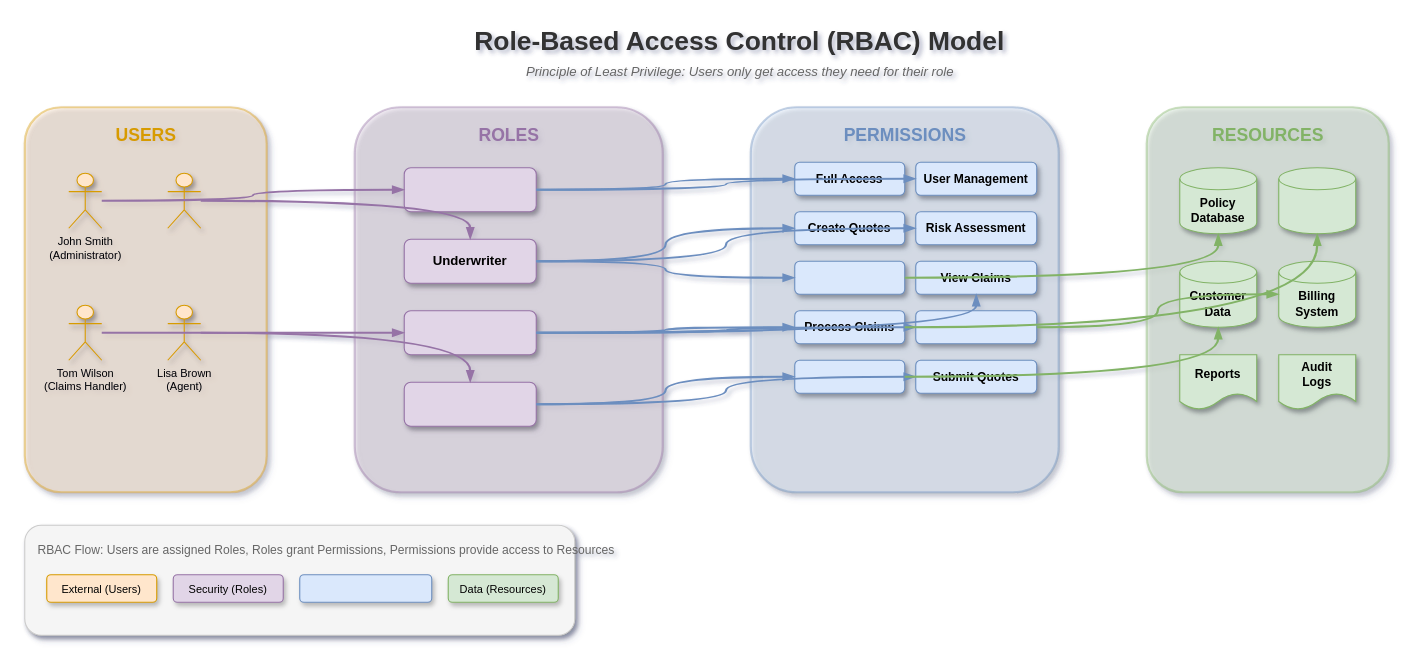
The diagram is 1421 pixels wide and 669 high, and some of its shapes have lost their labels. The centre of each missing label's shape, as x and y in pixels:
Administrator: the point at 471,190
Approve Policies: the point at 850,279
Claims Database: the point at 1317,201
Claims Handler: the point at 471,333
Insurance Agent: the point at 471,405
Mary Jones (Underwriter): the point at 184,202
Services (Permissions): the point at 366,589
Settlement Auth: the point at 976,328
View Customers: the point at 850,378
